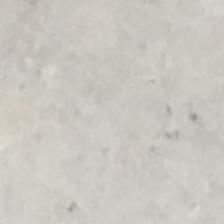Non_Crack: (54, 25, 224, 210)
